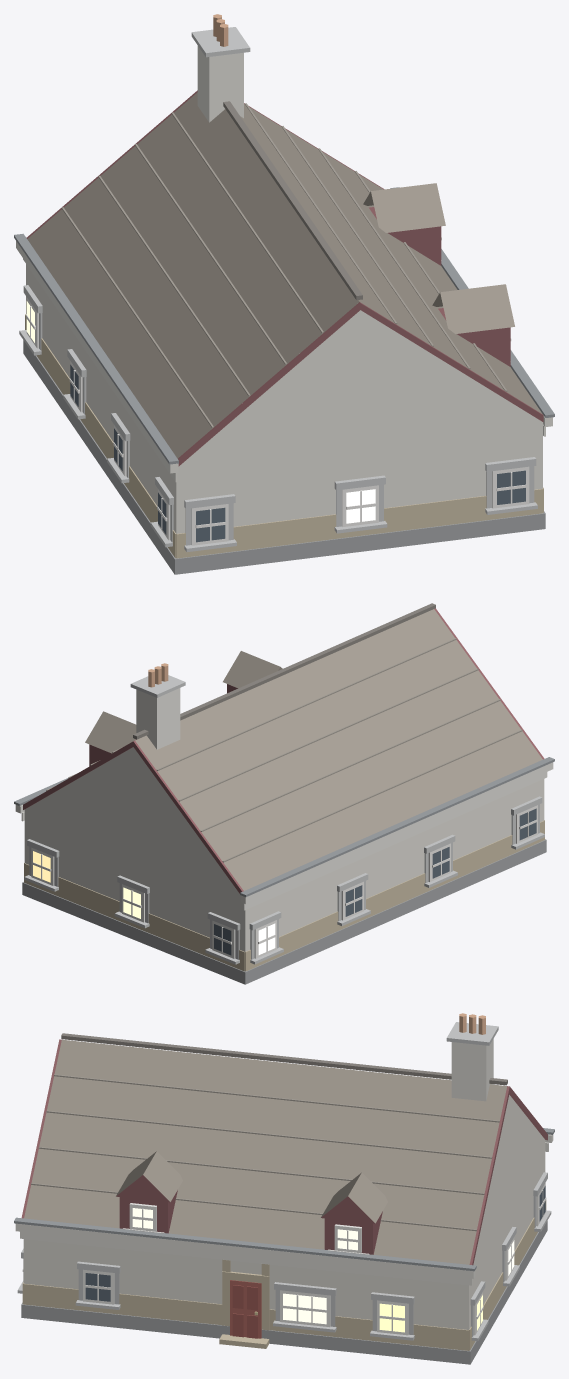
3 renders of one model, top to bottom at view 1: azimuth 30°, elevation 25°; view 2: azimuth 150°, elevation 25°; view 3: azimuth 270°, elevation 25°, orthographic. The views are drawn at different scales.
Parts seen in each view (by area): view 1: tile_brown, harl_grey, ss_joint, plinth, stone_band, timber_maroon, plaque, lead, windows, frame, chim_render, pend_in (+1 smaller); view 2: tile_brown, harl_grey, ss_joint, plinth, stone_band, string, plaque, windows, frame, lead, timber_maroon, chim_render (+1 smaller); view 3: tile_brown, harl_grey, ss_joint, string, plinth, stone_band, timber_maroon, plaque, frame, windows, lead, pend_in (+4 smaller).
Boxes of the visible parts, left/top/right/bottom form: tile_brown: left=27, top=92, right=542, bottom=458; harl_grey: left=26, top=264, right=542, bottom=533; ss_joint: left=25, top=314, right=543, bottom=558; plinth: left=23, top=340, right=545, bottom=574; stone_band: left=19, top=27, right=537, bottom=551; timber_maroon: left=26, top=90, right=543, bottom=466; plaque: left=61, top=103, right=507, bottom=428; lead: left=14, top=187, right=554, bottom=464; windows: left=26, top=301, right=525, bottom=542; frame: left=26, top=237, right=529, bottom=545; chim_render: left=197, top=46, right=243, bottom=122; pend_in: left=223, top=101, right=362, bottom=300; tile_brown: left=85, top=609, right=542, bottom=890; harl_grey: left=24, top=747, right=544, bottom=951; ss_joint: left=24, top=820, right=544, bottom=971; plinth: left=22, top=839, right=546, bottom=984; stone_band: left=24, top=675, right=544, bottom=964; string: left=15, top=762, right=553, bottom=910; plaque: left=46, top=638, right=522, bottom=862; windows: left=33, top=808, right=536, bottom=955; frame: left=31, top=805, right=537, bottom=958; lead: left=14, top=757, right=554, bottom=897; timber_maroon: left=23, top=608, right=544, bottom=893; chim_render: left=136, top=688, right=180, bottom=749; tile_brown: left=24, top=1039, right=507, bottom=1264; harl_grey: left=23, top=1095, right=545, bottom=1329; ss_joint: left=22, top=1200, right=546, bottom=1350; string: left=15, top=1134, right=553, bottom=1285; plinth: left=21, top=1221, right=547, bottom=1364; stone_band: left=17, top=1022, right=551, bottom=1340; timber_maroon: left=21, top=1039, right=547, bottom=1265; plaque: left=31, top=1074, right=499, bottom=1231; frame: left=22, top=1183, right=546, bottom=1335; windows: left=85, top=1186, right=545, bottom=1332; lead: left=14, top=1128, right=554, bottom=1271; pend_in: left=61, top=1033, right=507, bottom=1085.
Size of the model in its own units: 13.77 by 9.49 by 16.76.
